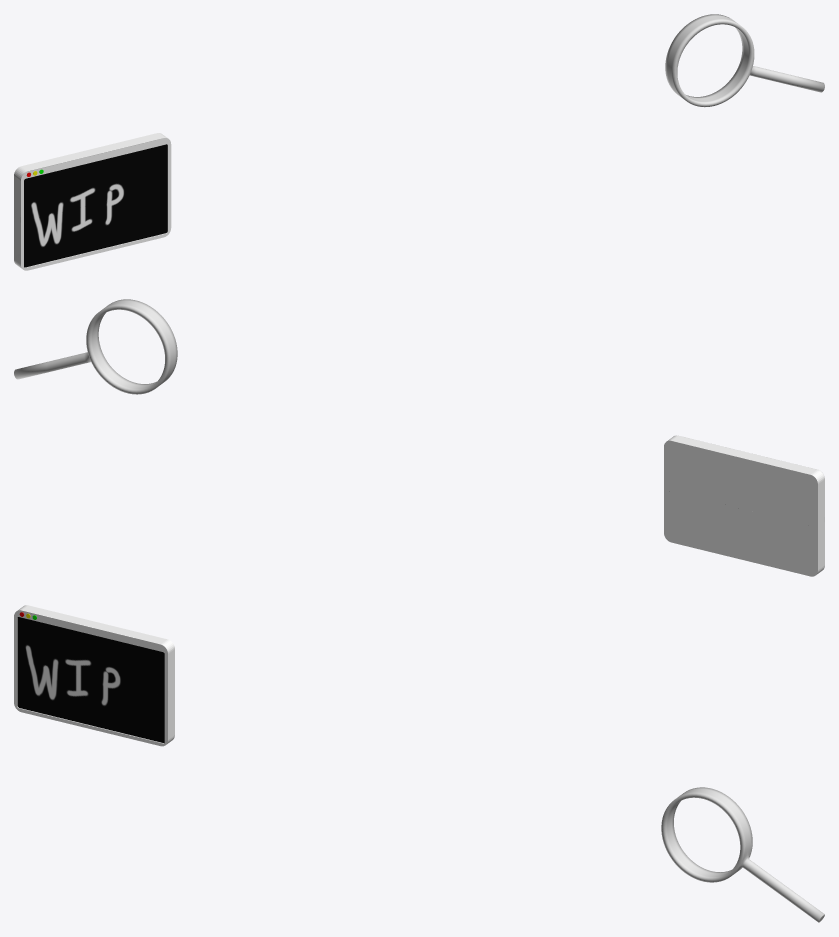
3 renders of one model, top to bottom at view 1: azimuth 30°, elevation 25°; view 2: azimuth 150°, elevation 25°; view 3: azimuth 330°, elevation 25°, orthographic. The views are drawn at different scales.
Visible parts, largest first — view 1: ScreenBottom, ScreenTop, MagnifyingGlass, Top, Bottom; view 2: Top, Bottom, MagnifyingGlass; view 3: ScreenBottom, ScreenTop, MagnifyingGlass, Top, Bottom.
Boxes of the visible parts, x1,y1,x2,y2 form: ScreenBottom: (24,186,167,267); ScreenTop: (24,144,167,221); MagnifyingGlass: (665,14,824,107); Top: (14,133,171,222); Bottom: (14,186,171,270); Top: (664,435,824,527); Bottom: (664,490,824,576); MagnifyingGlass: (14,299,177,394); ScreenBottom: (17,660,164,742); ScreenTop: (17,617,164,695); MagnifyingGlass: (661,787,824,922); Top: (14,605,174,696); Bottom: (14,659,174,746).
Size of the model in its own units: 18.94 by 2.45 by 0.7206.
4 materials, 2 textured.
